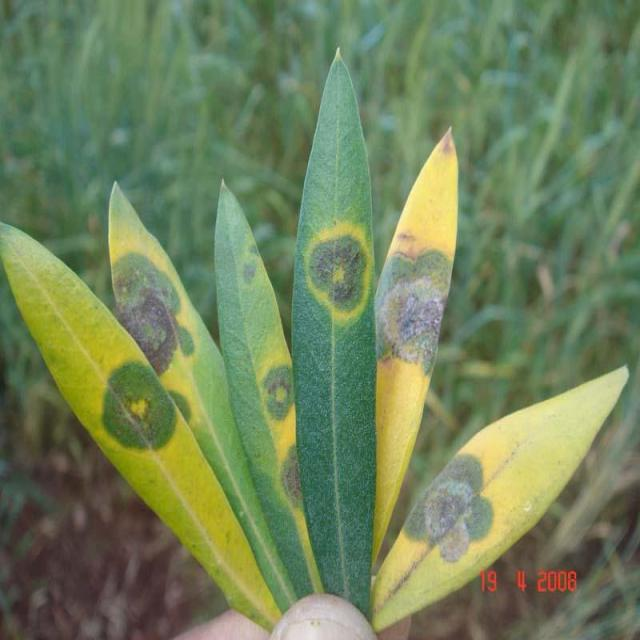Peacock Eye: (0, 223, 282, 634), (110, 185, 293, 616), (372, 367, 627, 631), (292, 50, 376, 596), (214, 182, 322, 597), (375, 128, 458, 569)
